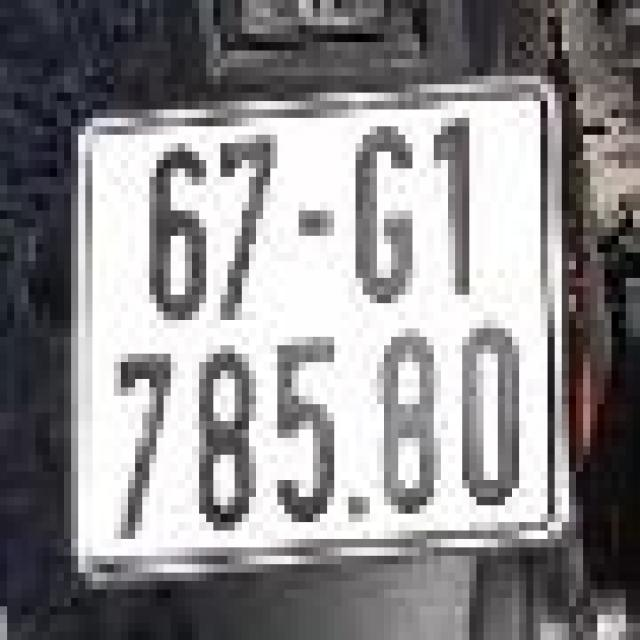0: (455, 320, 533, 514)
1: (423, 105, 487, 299)
5: (270, 337, 348, 530)
6: (135, 135, 213, 328)
7: (106, 346, 178, 548), (213, 130, 284, 332)
8: (366, 329, 452, 522), (192, 341, 263, 535)
G: (342, 114, 419, 316)
